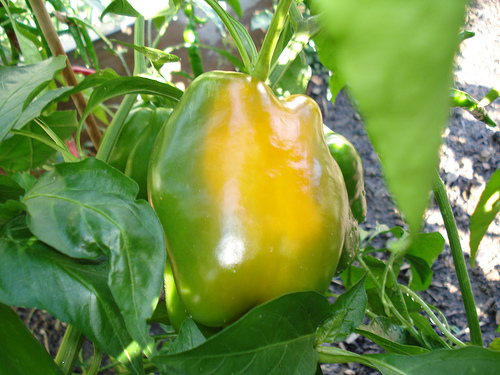capsicum: (146, 70, 348, 326)
